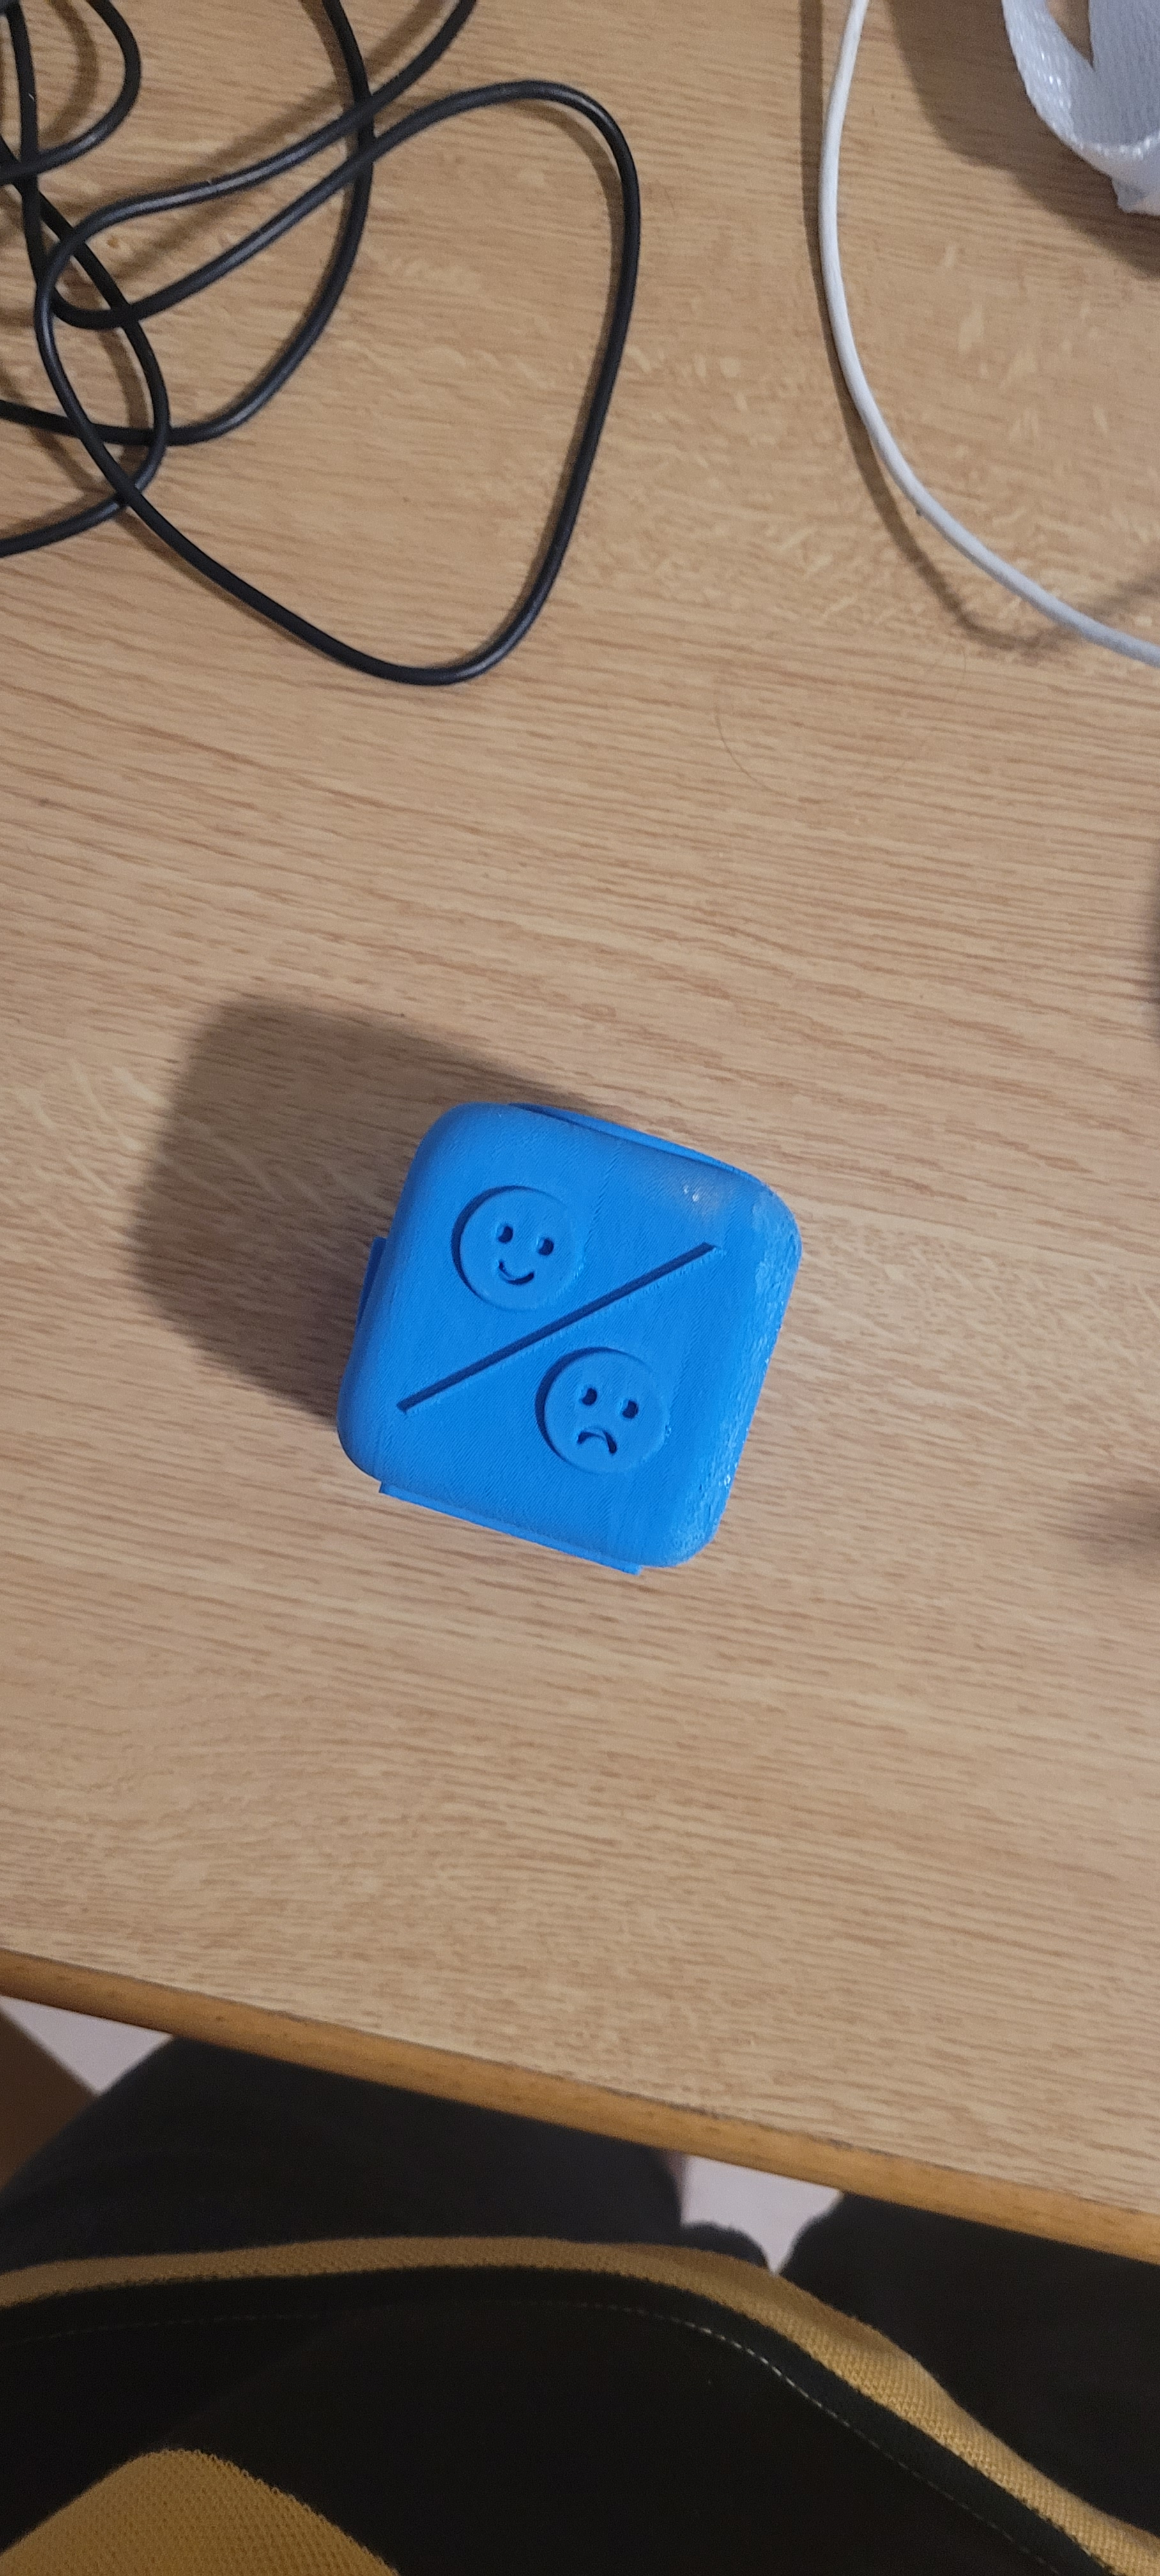Like/Dislike: (360, 1079, 757, 1569)
